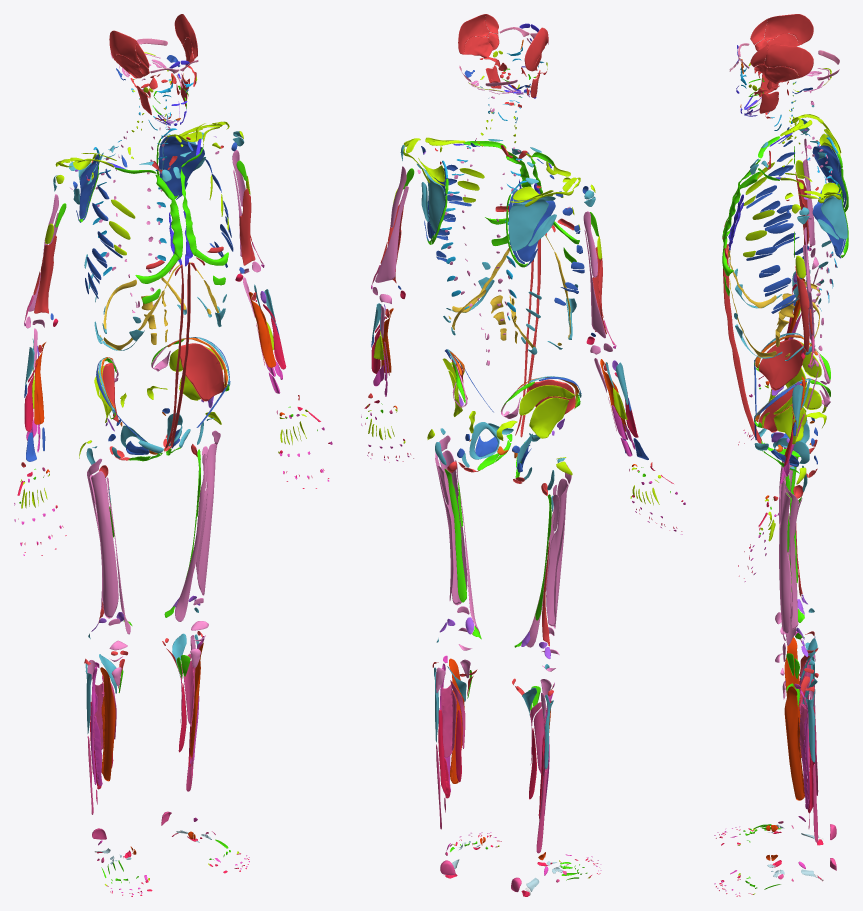
The model's file is muscular-insertions.glb.
The picture shows the model from 3 angles, left to right: view 1: azimuth 30°, elevation 25°; view 2: azimuth 150°, elevation 25°; view 3: azimuth 270°, elevation 25°; orthographic projection. The views are drawn at different scales.
Visible parts, largest first — view 1: Vastus intermedius muscle.or, Iliacus muscle.ol, Subscapularis muscle.ol, Vastus intermedius muscle.ol, Tibialis anterior muscle.or, Vastus medialis muscle.ol, Brachialis muscle.or, Brachialis muscle.ol, Ulnar head of flexor carpi ulnaris.ol, Temporalis muscle.o2r, Rectus abdominis muscle.el; view 2: Infraspinatus muscle.or, Vastus intermedius muscle.ol, Vastus lateralis muscle.or, Gluteus minimus muscle.or, Adductor magnus.el, Medial head of triceps brachii.ol, Tibialis posterior muscle.ol, Gluteus medius muscle.or, Infraspinatus muscle.ol, Temporalis muscle.o2l, Vastus intermedius muscle.or; view 3: Iliacus muscle.or, Tibialis anterior muscle.ol, Vastus intermedius muscle.ol, Temporalis muscle.o2l, Temporalis muscle.o2r, Rectus abdominis muscle.el, Vastus lateralis muscle.ol, Infraspinatus muscle.ol, Subscapularis muscle.or, Gluteus minimus muscle.ol, Brachialis muscle.ol, Iliacus muscle.ol (+17 smaller).
Part boxes in pixels (x1,y1,x2,y2): Vastus intermedius muscle.or: (91,471,118,618); Iliacus muscle.ol: (180,343,224,401); Subscapularis muscle.ol: (163,136,204,196); Vastus intermedius muscle.ol: (197,443,217,595); Tibialis anterior muscle.or: (100,667,115,781); Vastus medialis muscle.ol: (175,453,206,621); Brachialis muscle.or: (34,235,56,313); Brachialis muscle.ol: (239,188,255,265); Ulnar head of flexor carpi ulnaris.ol: (248,292,276,367); Temporalis muscle.o2r: (109,30,139,64); Rectus abdominis muscle.el: (170,262,190,446); Infraspinatus muscle.or: (508,196,555,251); Vastus intermedius muscle.ol: (439,450,467,605); Vastus lateralis muscle.or: (546,465,571,626); Gluteus minimus muscle.or: (529,397,569,438); Adductor magnus.el: (444,469,481,639); Medial head of triceps brachii.ol: (375,186,408,282); Tibialis posterior muscle.ol: (441,684,456,757); Gluteus medius muscle.or: (519,385,574,415); Infraspinatus muscle.ol: (417,163,445,231); Temporalis muscle.o2l: (458,14,489,54); Vastus intermedius muscle.or: (553,478,567,628); Iliacus muscle.or: (758,339,805,390); Tibialis anterior muscle.ol: (784,686,804,800); Vastus intermedius muscle.ol: (779,489,790,634); Temporalis muscle.o2l: (764,44,813,77); Temporalis muscle.o2r: (764,14,813,44); Rectus abdominis muscle.el: (723,247,761,443); Vastus lateralis muscle.ol: (783,479,798,629); Infraspinatus muscle.ol: (820,194,847,239); Subscapularis muscle.or: (812,145,844,202); Gluteus minimus muscle.ol: (774,405,806,441); Brachialis muscle.ol: (795,266,809,351); Iliacus muscle.ol: (758,382,805,432).
Bounding box in the file's own units: 0.6604 × 1.65 × 0.2414.
